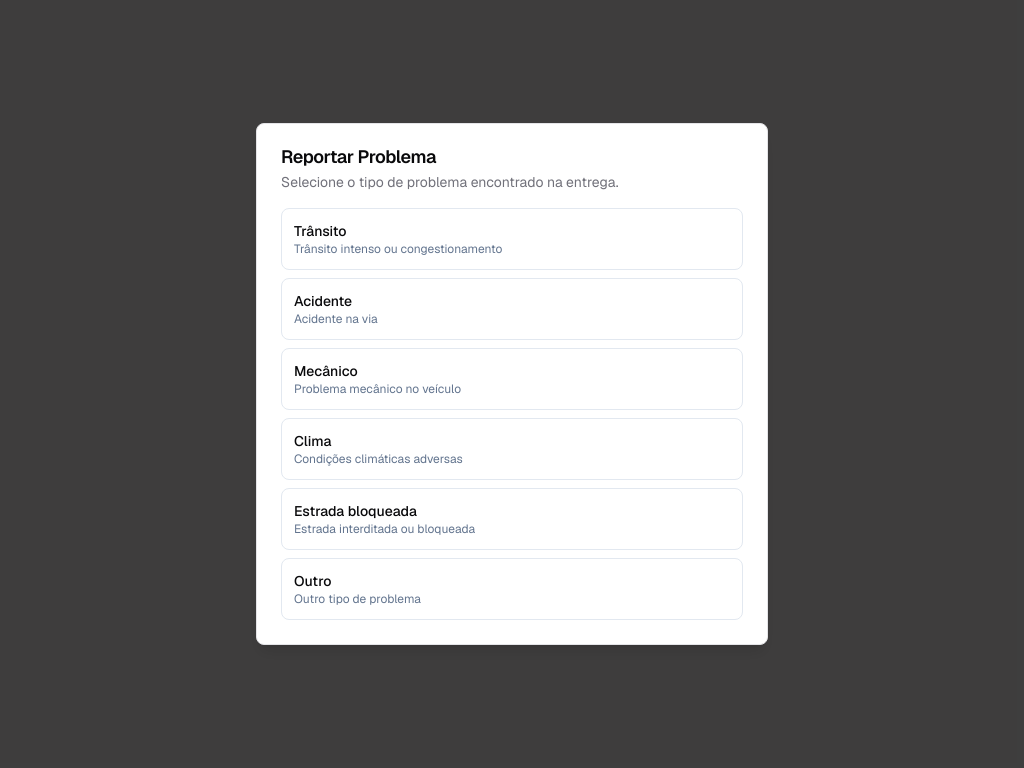
Test case: ReportProblemDialog › mostra mensagem de erro quando API falha
Click the text "Trânsito".
click(320, 231)  # box [294,222,346,240]
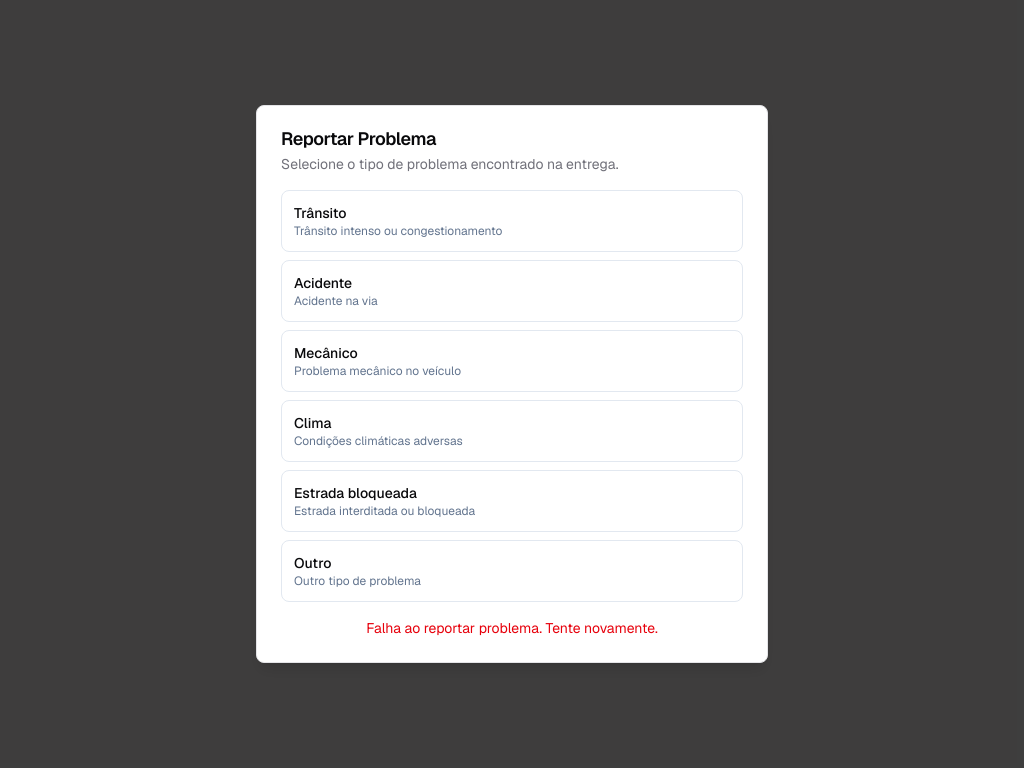
Now the text "Falha ao reportar problema. Tente novamente." is shown, box [366,619,658,637]
